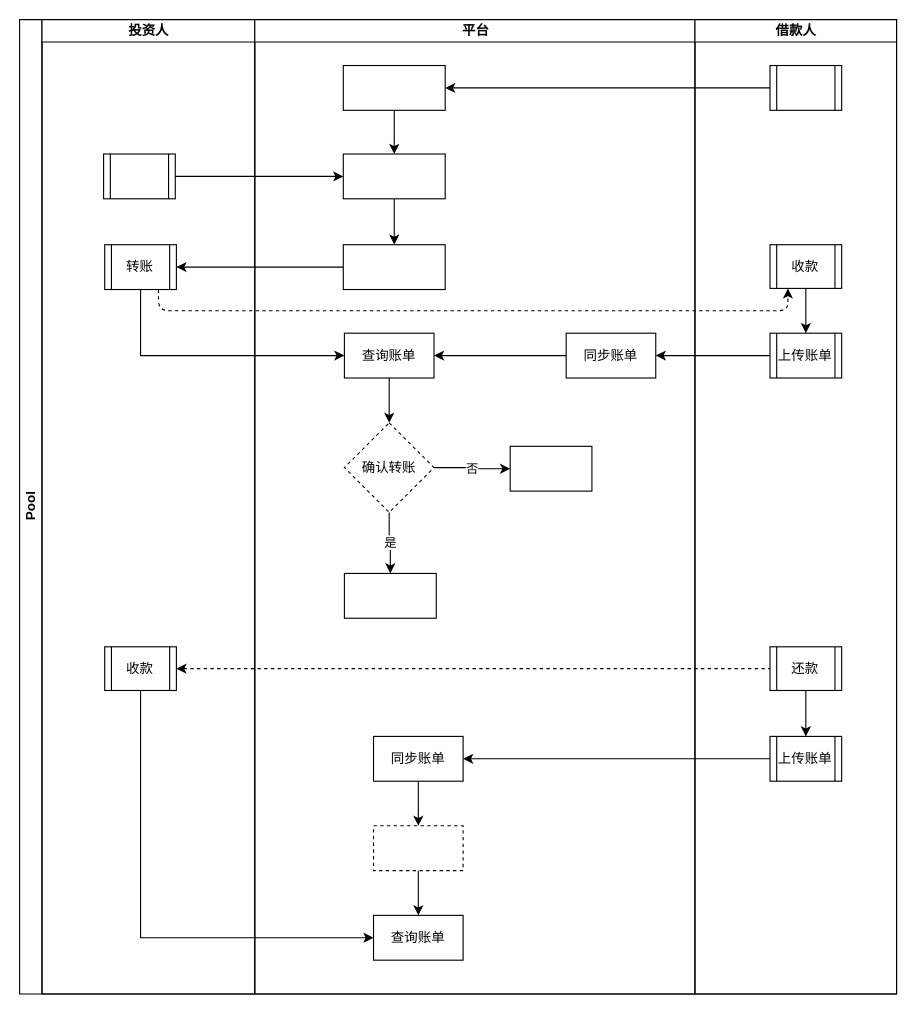
Some shapes in this 916 by 1014 pixel diagram are drawn without their labels. The centre of each missing label's shape, as x and y in pixels:
"发标" goes at point 805,87.
"取消定单" goes at point 550,468.
"投资" goes at point 138,176.
"显示付款码" goes at point 393,267.
"标的展示" goes at point 393,87.
"生成合同" goes at point 389,595.
"生成限时定单" goes at point 393,176.
"账单确认" goes at point 417,848.
